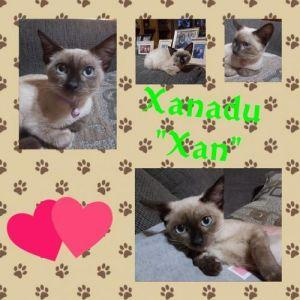siamese: (33, 23, 117, 111)
